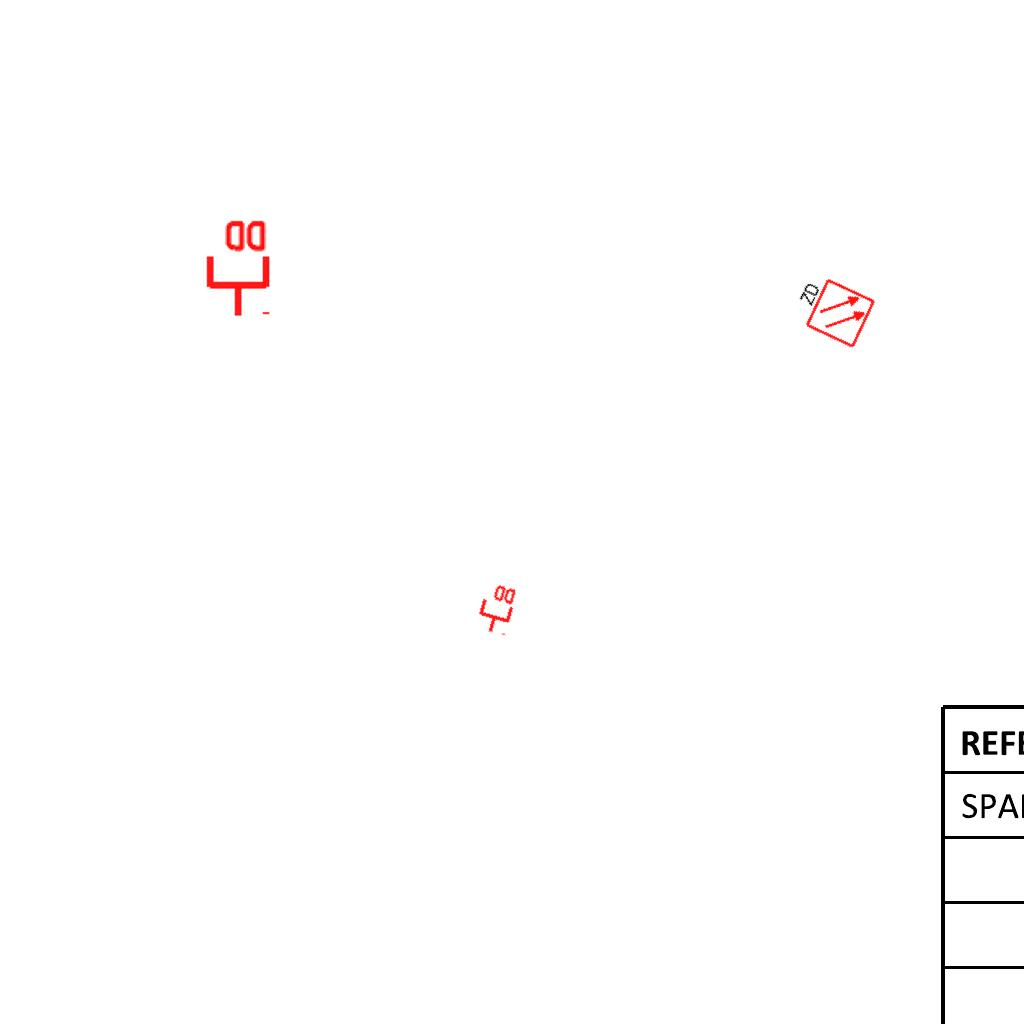Datenanschluss_zweifach: (202, 216, 271, 319), (472, 579, 520, 638)
ZD_Melder_in_Zwischendecke_mit_Revisionsoeffnung_mind_40_x_40_cm: (785, 268, 878, 352)
